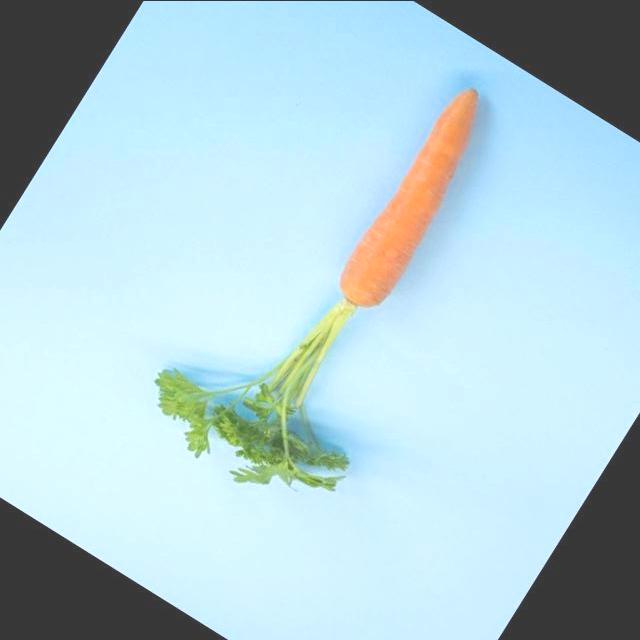carrot: (309, 71, 514, 332)
